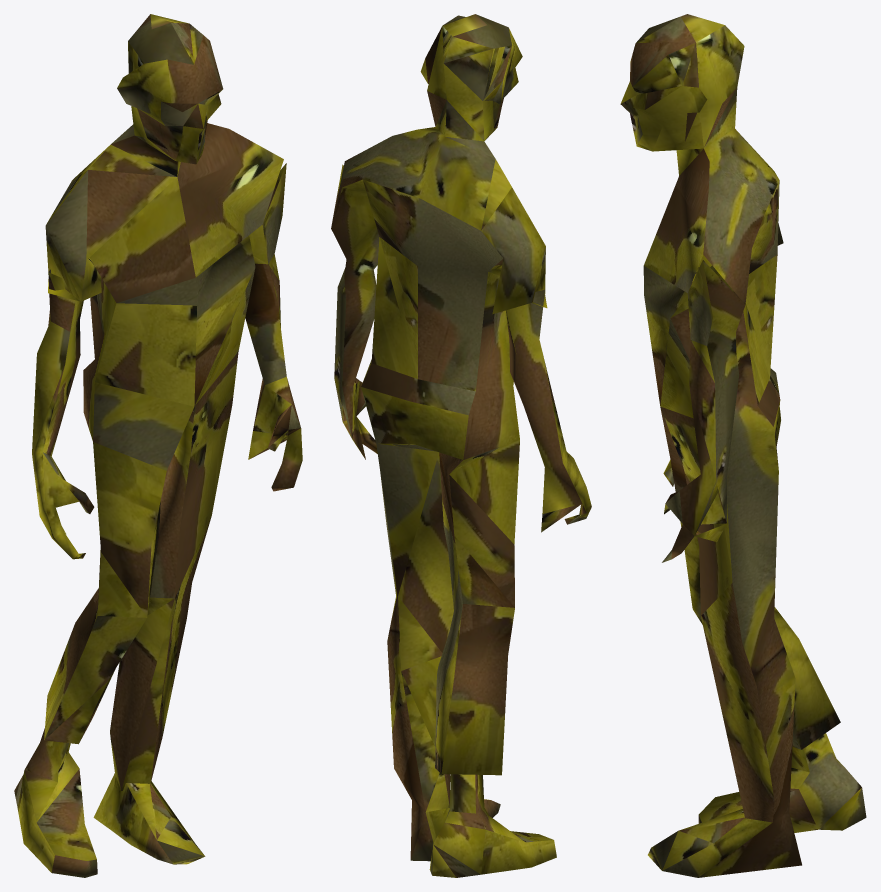
File: OfficeZombie.fbx
3 views of the same model, side by side, from view 1: azimuth 30°, elevation 25°; view 2: azimuth 150°, elevation 25°; view 3: azimuth 270°, elevation 25° (orthographic). The views are drawn at different scales.
Visible parts, largest first — view 1: tripo_node_84af189d; view 2: tripo_node_84af189d; view 3: tripo_node_84af189d.
Part boxes in pixels (x1,y1,x2,y2): tripo_node_84af189d: [14, 14, 302, 877]; tripo_node_84af189d: [331, 14, 591, 877]; tripo_node_84af189d: [620, 14, 866, 877].
Bounding box in the file's own units: 0.3143 × 1 × 0.2624.
